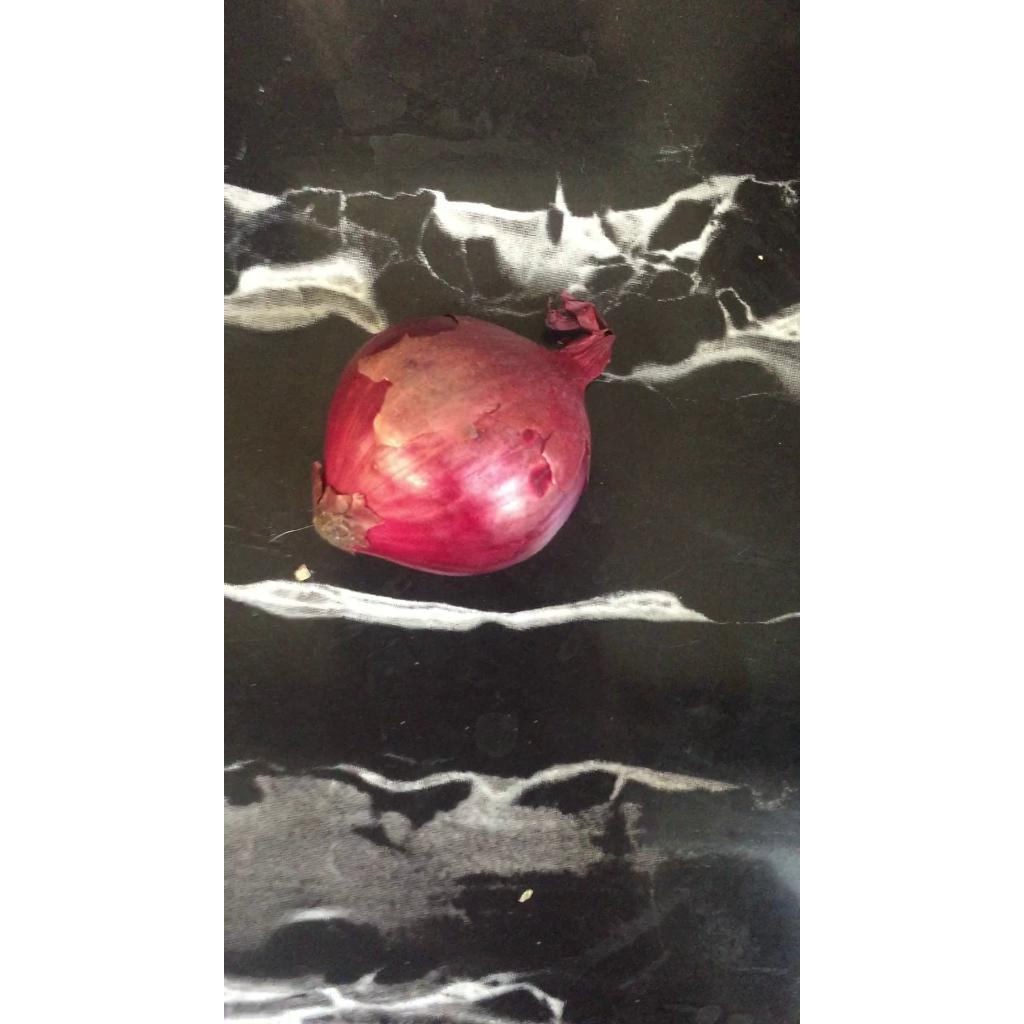Onion: (311, 293, 614, 575)
